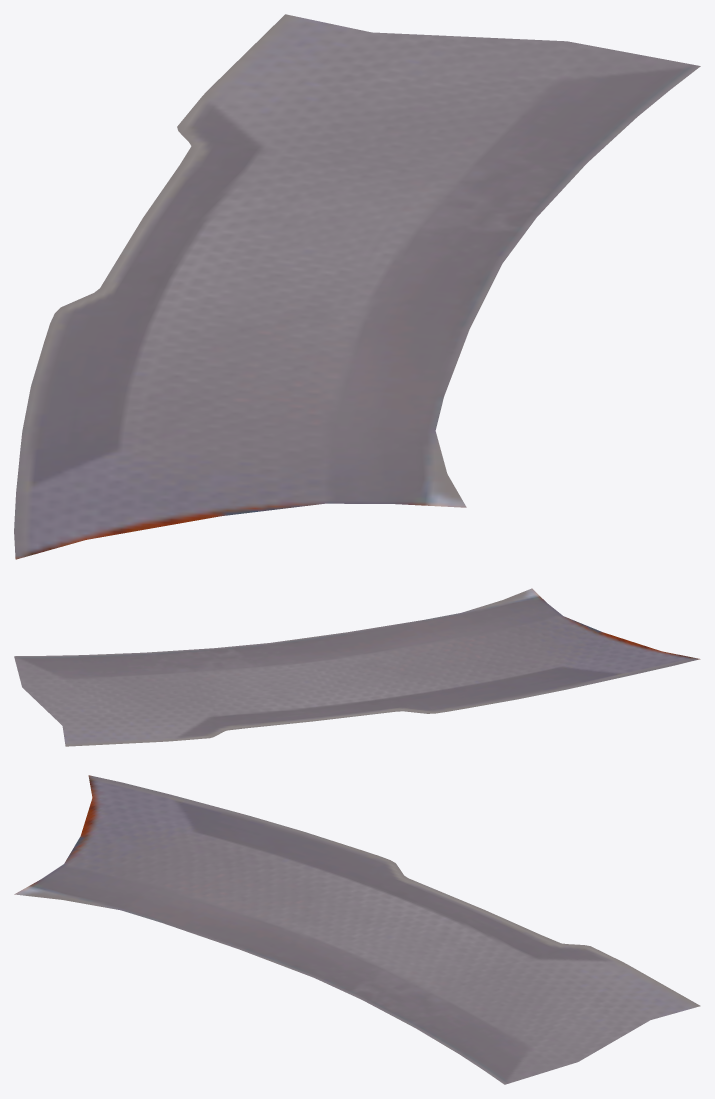
Rendered from pref_fx_blueslowareaeffect_beta03_roadb_01_lv0.fbx.
The picture shows the model from 3 angles, top to bottom: view 1: azimuth 30°, elevation 25°; view 2: azimuth 150°, elevation 25°; view 3: azimuth 270°, elevation 25°; orthographic projection. The views are drawn at different scales.
Visible parts, largest first — view 1: color (1); view 2: color (1); view 3: color (1).
Part boxes in pixels (box(x1,y1,x2,y2)): color (1): box(14, 14, 700, 559); color (1): box(14, 588, 700, 746); color (1): box(14, 775, 700, 1084).
Size of the model in its own units: 20.22 by 0.0303 by 18.91.
